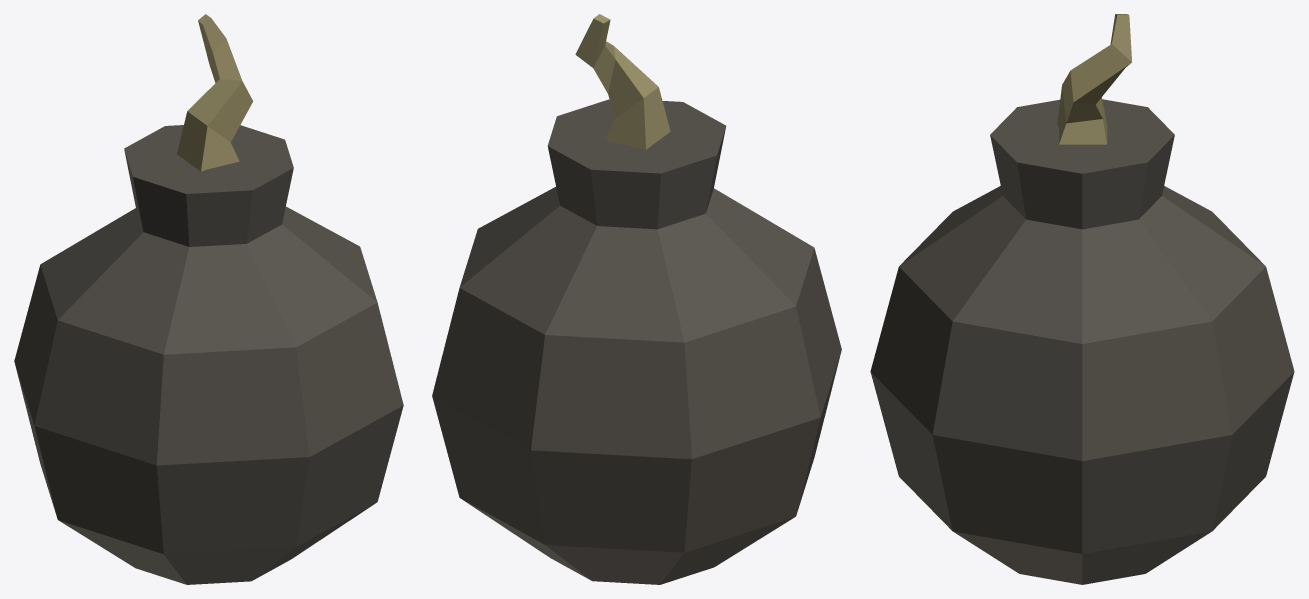
The model's file is Bomb.fbx.
3 views of the same model, side by side, from view 1: azimuth 30°, elevation 25°; view 2: azimuth 150°, elevation 25°; view 3: azimuth 270°, elevation 25° (orthographic). The views are drawn at different scales.
Parts seen in each view (by area): view 1: Bomb; view 2: Bomb; view 3: Bomb.
Boxes of the visible parts, box(x1,y1,x2,y2) form: Bomb: box(14, 14, 403, 584); Bomb: box(432, 14, 841, 584); Bomb: box(870, 14, 1294, 584).
Size of the model in its own units: 11.98 by 16.9 by 11.98.
